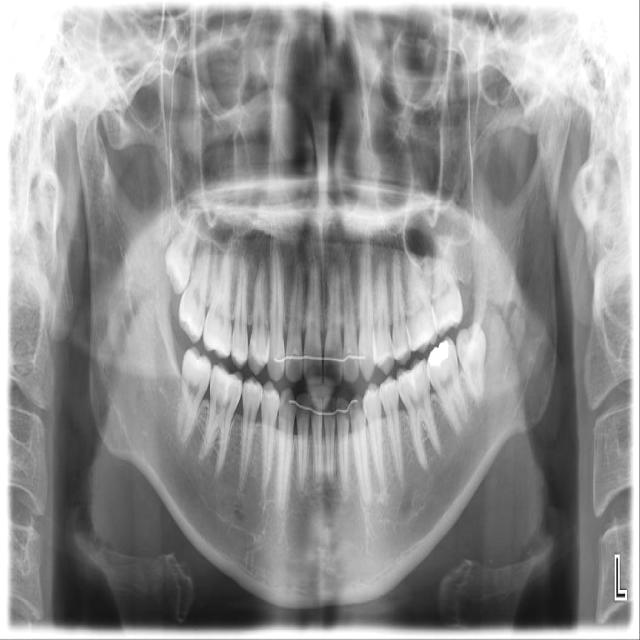Filling: (428, 341, 448, 366)
impacted tooth: (163, 203, 200, 289), (456, 325, 487, 406)
